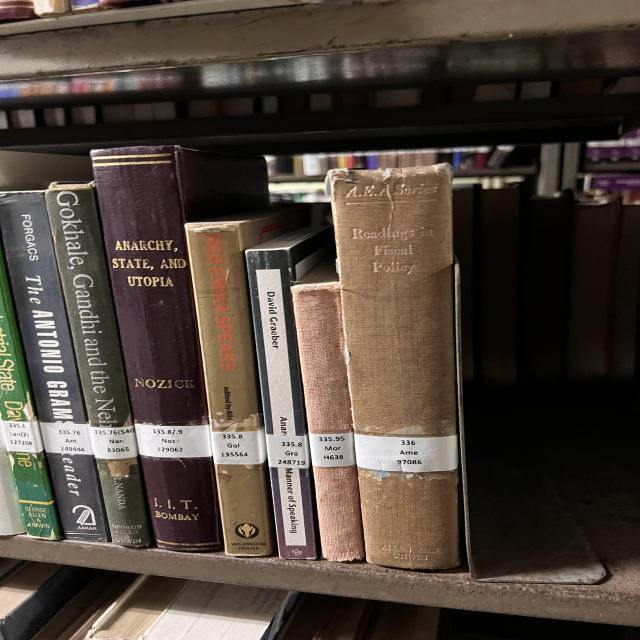Book: (92, 145, 267, 551), (327, 164, 460, 569), (45, 182, 152, 548), (185, 210, 297, 556), (0, 191, 110, 541), (245, 226, 333, 559), (292, 281, 365, 561), (0, 271, 62, 540)
Label: (353, 434, 458, 472), (135, 424, 212, 458), (210, 429, 267, 465), (40, 421, 93, 455), (88, 425, 138, 459), (308, 432, 355, 468), (265, 434, 310, 469), (2, 421, 43, 452)
